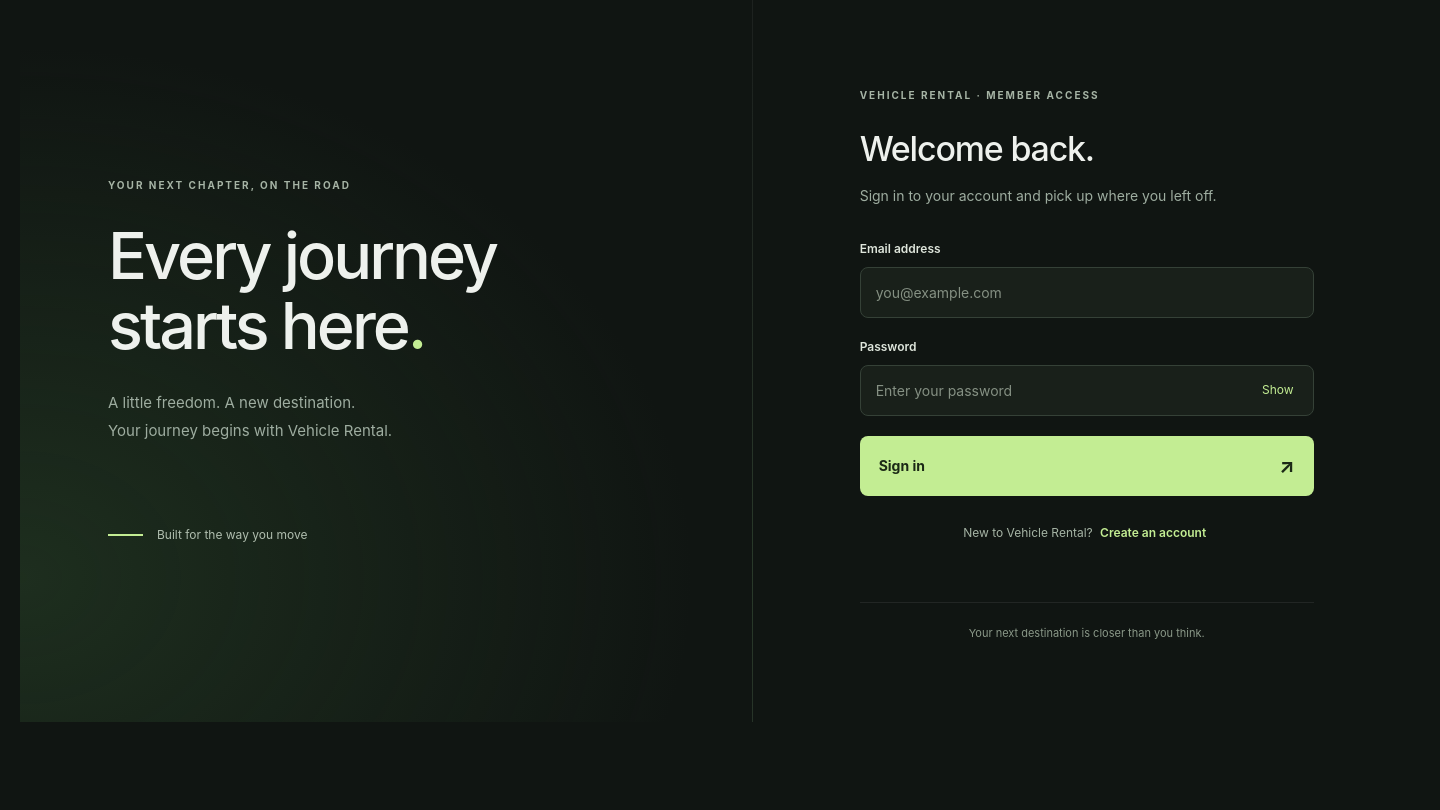
authentication UI › validates required fields and email before submitting
The image size is (1440, 810).
Submit the form "Sign in", box [860,240,1314,570]
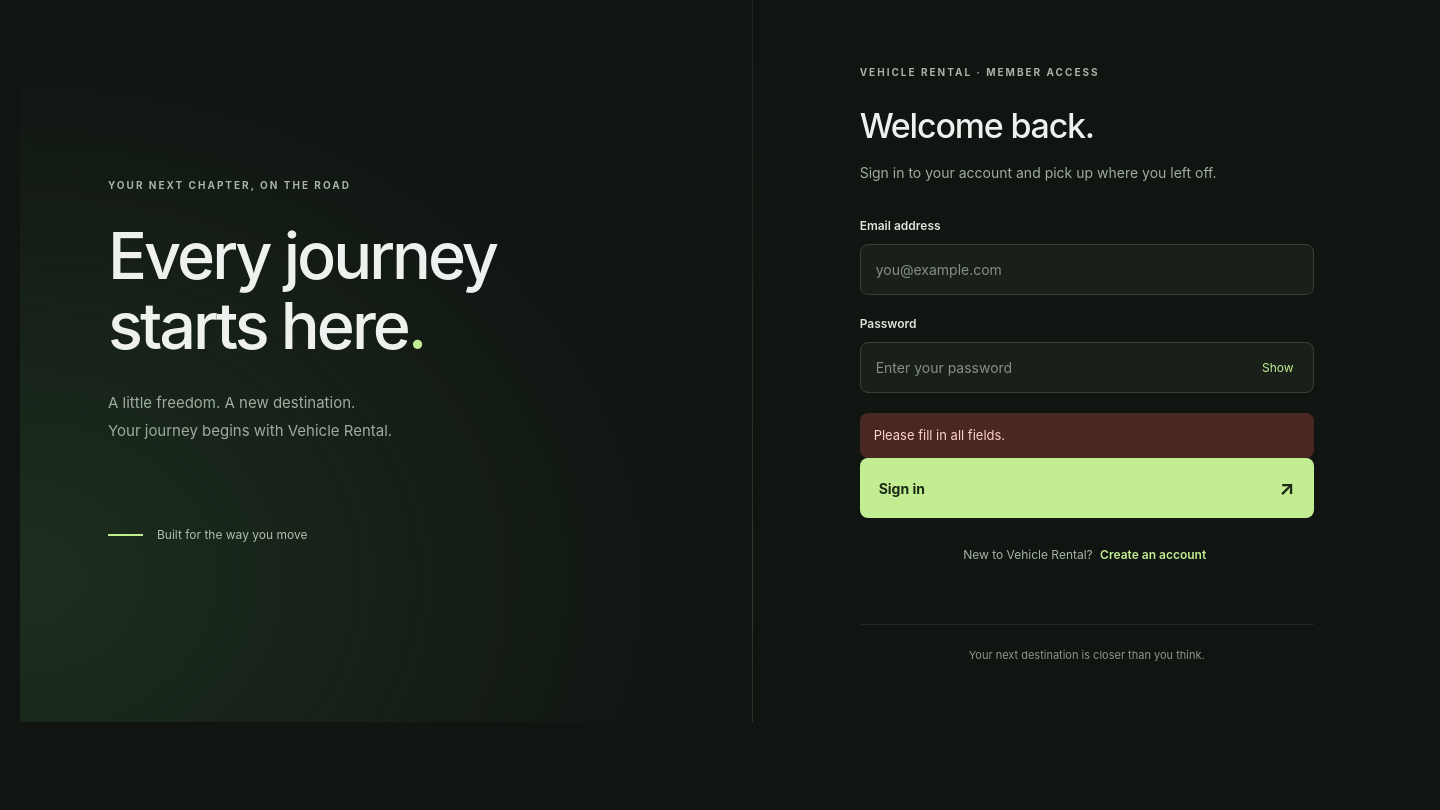
Expected: the message shows "fill in all fields", [874,427,1005,443]
Type "bad" into the field labelled "Email address" at [1087, 270], box [860,244,1314,295]
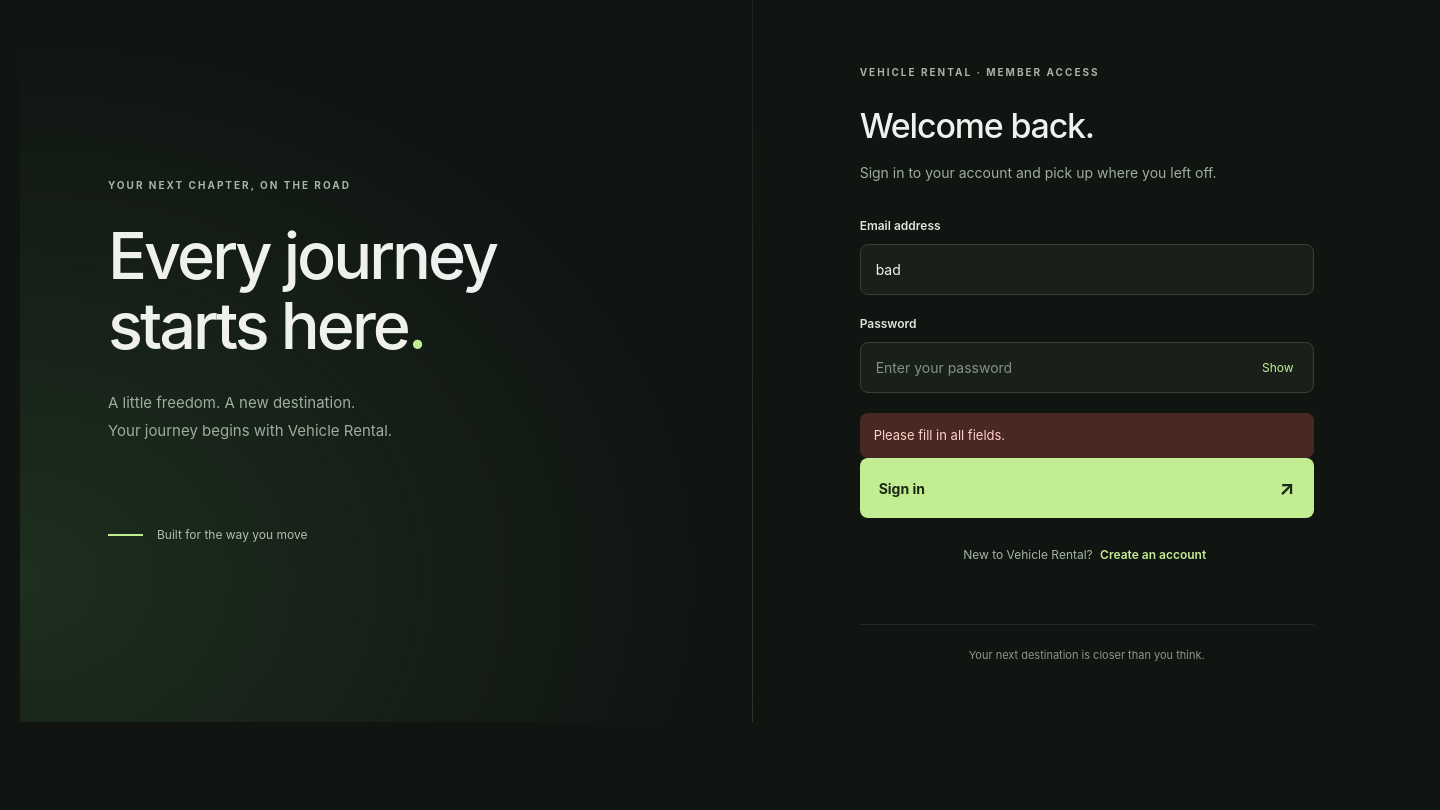
Type "Password123" into the password field labelled "Password" at [1087, 368], box [860,342,1314,393]
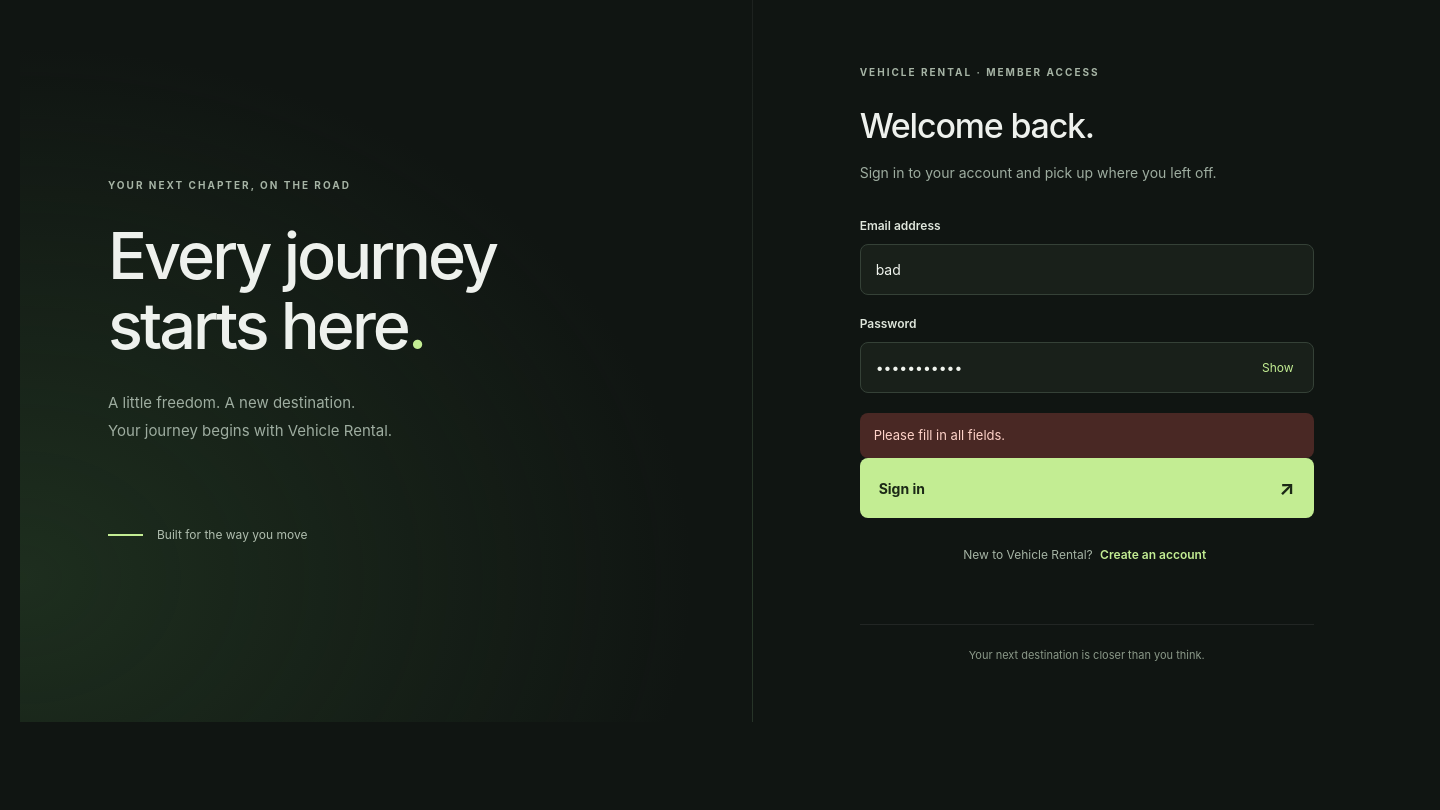
Submit the form "Sign in", box [860,217,1314,592]
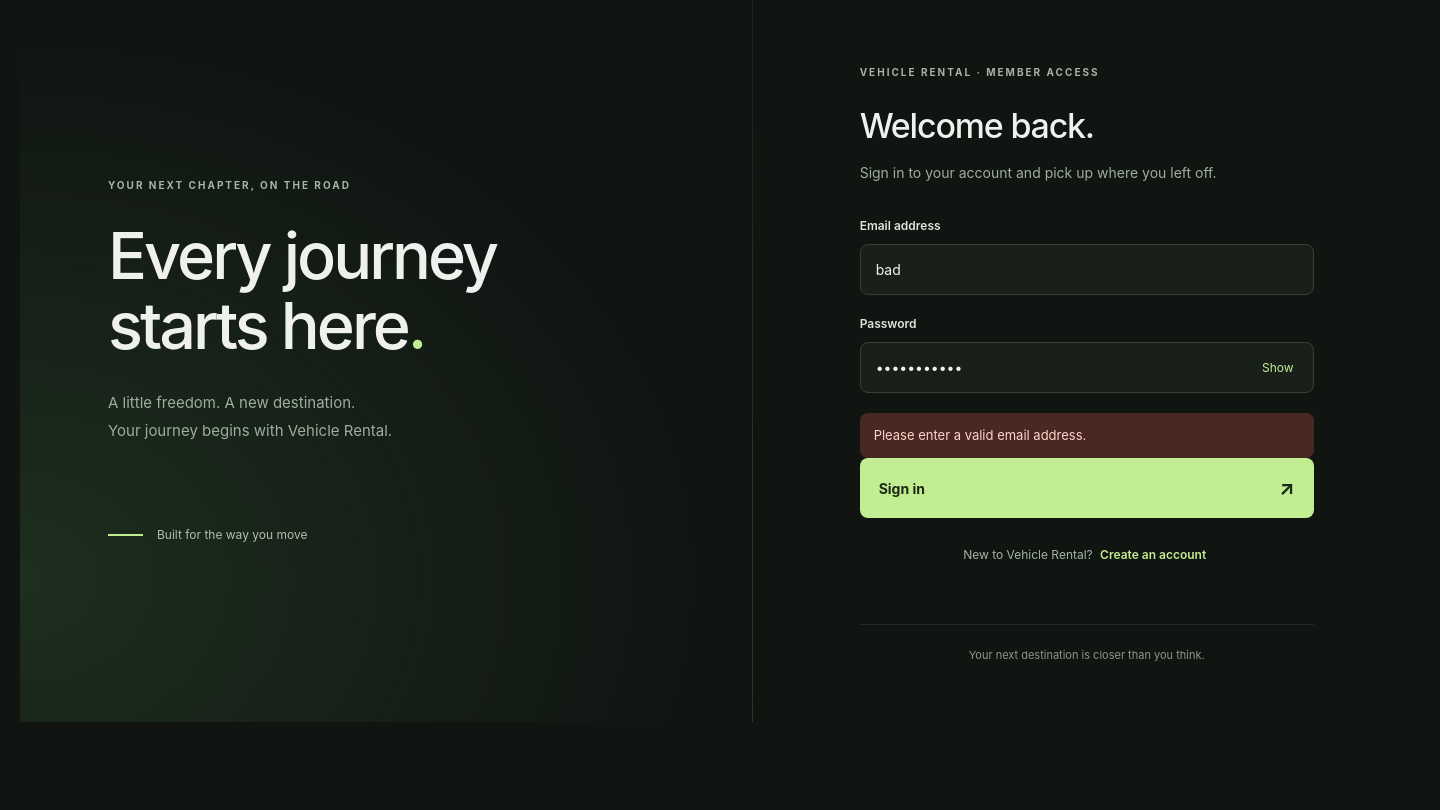
Expected: the message shows "valid email", [874,427,1086,443]
